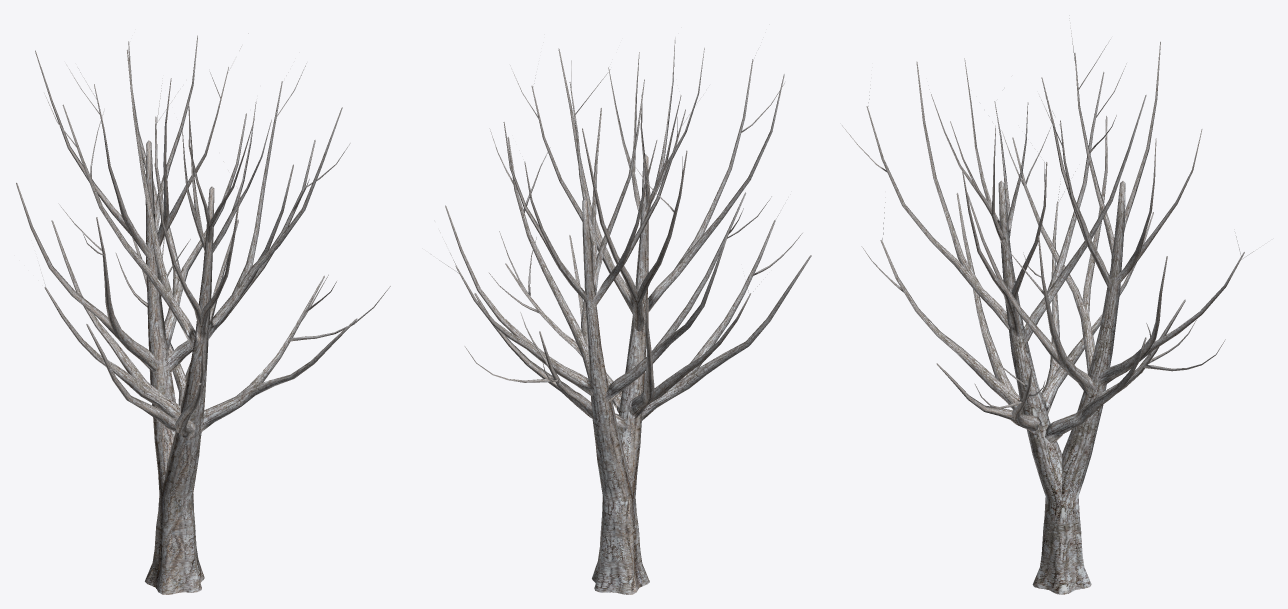
Rendered from shortDead.fbx.
3 views of the same model, side by side, from view 1: azimuth 30°, elevation 25°; view 2: azimuth 150°, elevation 25°; view 3: azimuth 270°, elevation 25° (orthographic). The views are drawn at different scales.
Parts seen in each view (by area): view 1: Tree_0; view 2: Tree_0; view 3: Tree_0.
Boxes of the visible parts, bbox=[...] form: Tree_0: bbox=[16, 33, 390, 594]; Tree_0: bbox=[431, 37, 811, 594]; Tree_0: bbox=[840, 15, 1253, 594].
Size of the model in its own units: 40.98 by 64.41 by 48.26.
1 material, 1 textured.
